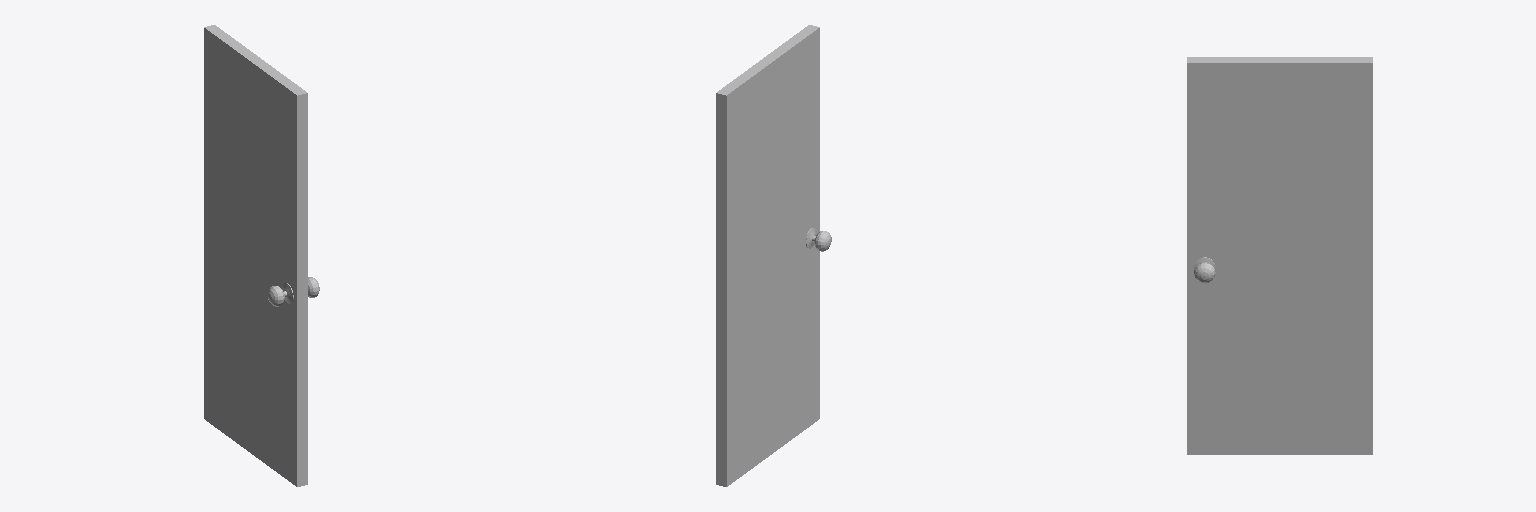
Rendered from door.obj.
The picture shows the model from 3 angles: view 1: azimuth 30°, elevation 25°; view 2: azimuth 150°, elevation 25°; view 3: azimuth 270°, elevation 25°; orthographic projection.
Visible parts, largest first — view 1: Cube_Cube.001; view 2: Cube_Cube.001; view 3: Cube_Cube.001.
Boxes of the visible parts, <box> form: Cube_Cube.001: <box>204,25,319,486</box>; Cube_Cube.001: <box>716,25,831,486</box>; Cube_Cube.001: <box>1187,57,1372,454</box>.
Bounding box in the file's own units: 0.9 × 6.95 × 3.